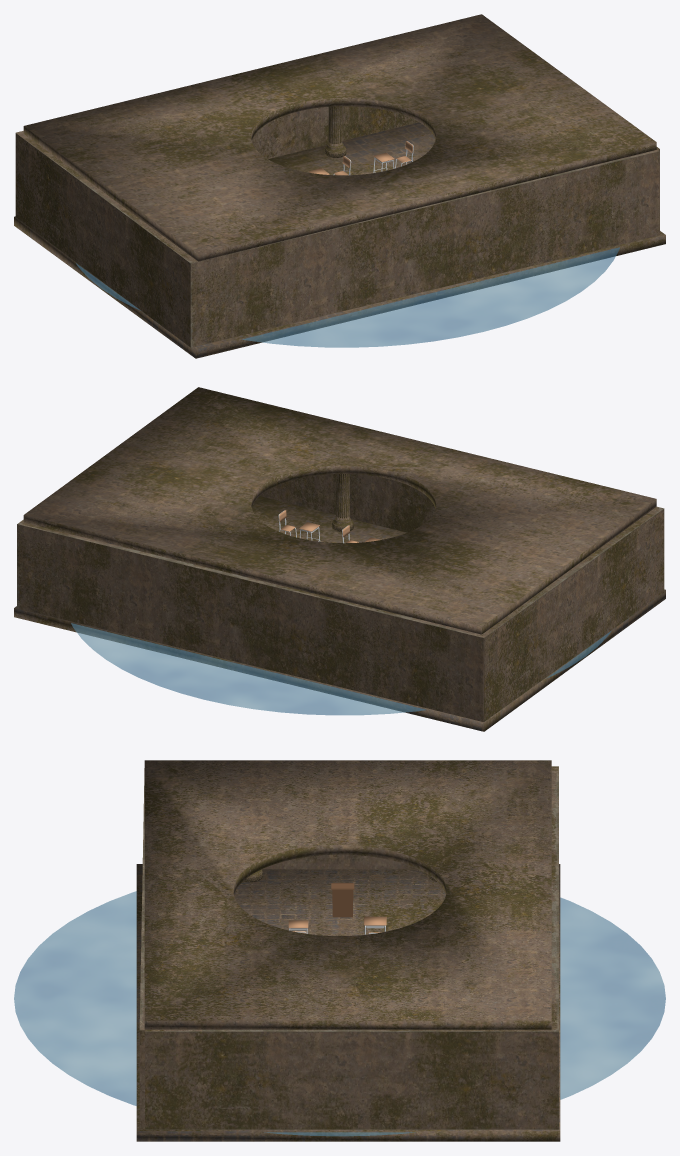
Rendered from salon_griego.glb.
The picture shows the model from 3 angles, top to bottom: view 1: azimuth 30°, elevation 25°; view 2: azimuth 150°, elevation 25°; view 3: azimuth 270°, elevation 25°; orthographic projection. The views are drawn at different scales.
Visible parts, largest first — view 1: roof, wall.001, agua, floor, wall, pillar.001; view 2: roof, wall, wall.001, agua, floor, pillar.002; view 3: roof, wall, agua, floor, wall.001, Lecturn.
Part boxes in pixels (x1,y1,x2,y2): roof: (23, 14, 656, 261); wall.001: (15, 133, 659, 347); agua: (76, 247, 619, 347); floor: (14, 122, 665, 358); wall: (16, 106, 659, 262); pillar.001: (324, 106, 346, 157); roof: (23, 387, 656, 634); wall: (17, 519, 620, 721); wall.001: (20, 474, 664, 721); agua: (71, 623, 610, 715); floor: (14, 496, 665, 731); pillar.002: (332, 474, 353, 532); roof: (144, 760, 551, 1029); wall: (145, 766, 558, 1129); agua: (14, 891, 665, 1136); floor: (136, 864, 560, 1141); wall.001: (139, 766, 558, 1128); Lecturn: (331, 883, 354, 917).
Bounding box in the file's own units: 64 × 12.74 × 64.
17 materials, 6 textured.
